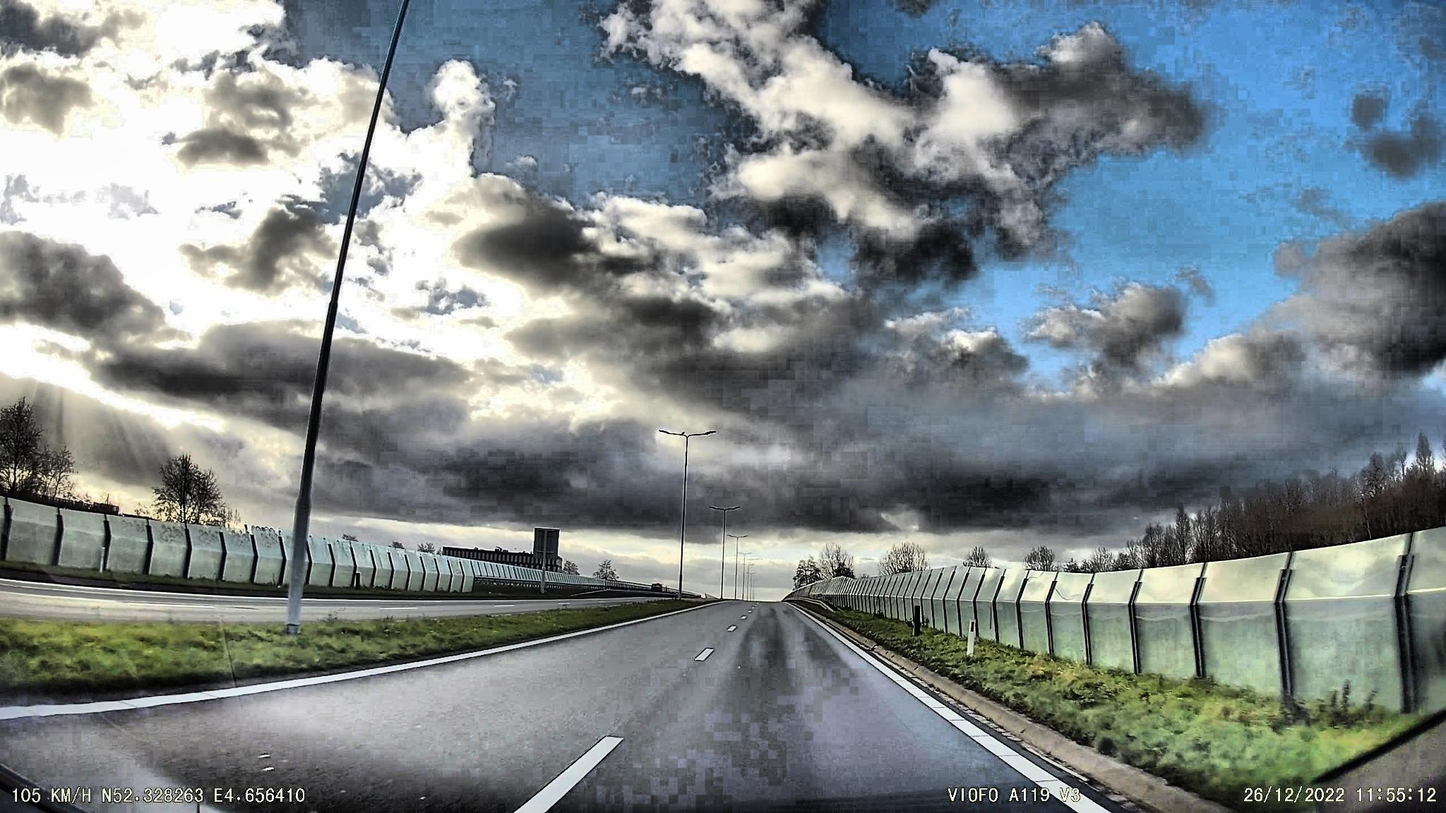Roads: (0, 601, 1164, 813)
